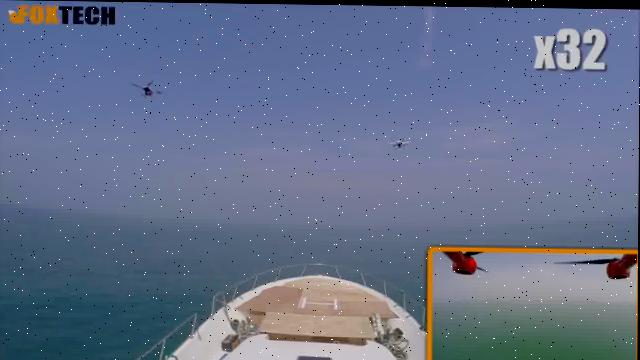drone: (122, 74, 177, 105), (383, 134, 416, 153)
